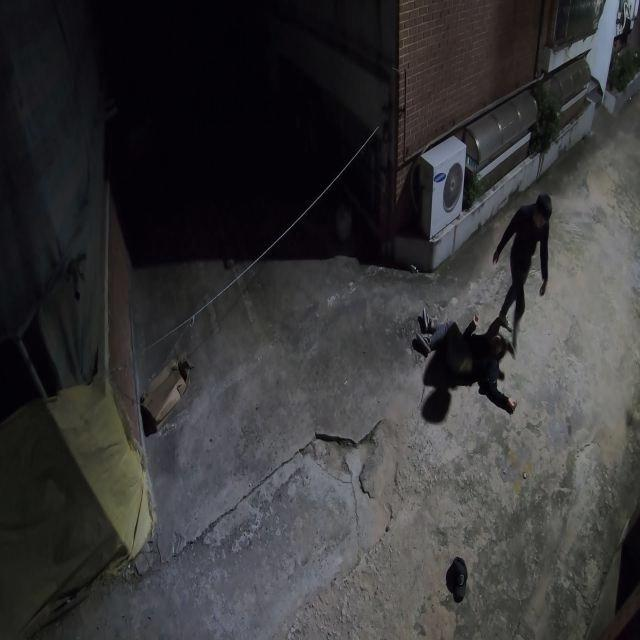fight: (409, 193, 545, 420)
